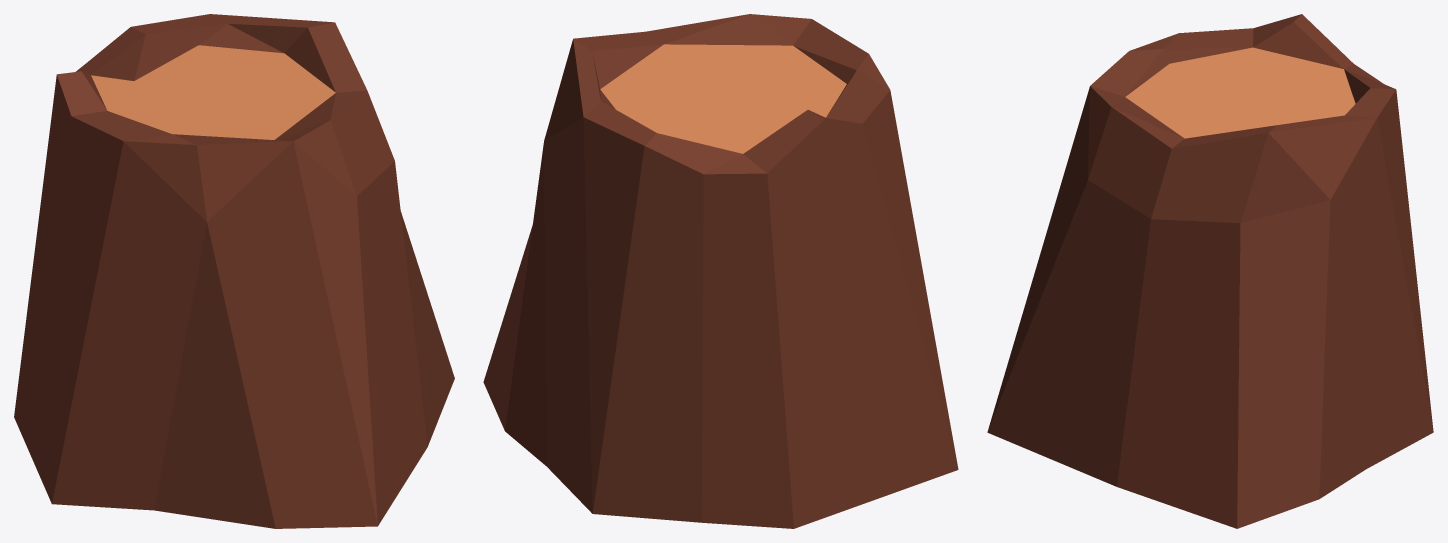
The model's file is pine_trunk_type_1_LOD1.fbx.
The picture shows the model from 3 angles, left to right: view 1: azimuth 30°, elevation 25°; view 2: azimuth 150°, elevation 25°; view 3: azimuth 270°, elevation 25°; orthographic projection. The views are drawn at different scales.
Parts seen in each view (by area): view 1: pine_trunk; view 2: pine_trunk; view 3: pine_trunk.
Boxes of the visible parts, box(x1,y1,x2,y2) form: pine_trunk: box(14, 14, 454, 528); pine_trunk: box(483, 14, 958, 528); pine_trunk: box(987, 14, 1433, 528).
Size of the model in its own units: 133 by 109 by 126.
